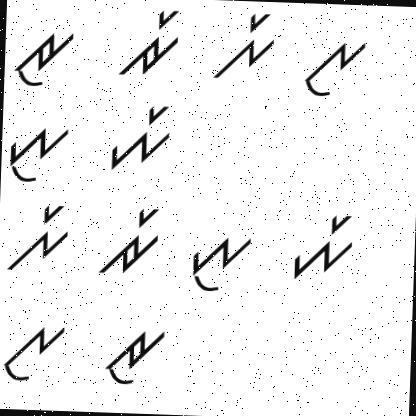lar: (4, 202, 76, 278), (214, 7, 280, 87)
law: (299, 26, 369, 103), (2, 318, 69, 388)
rar: (94, 201, 166, 285), (115, 2, 186, 80)
raw: (11, 23, 80, 95), (102, 318, 168, 390)
yar: (104, 96, 178, 174), (289, 210, 362, 284)
yaw: (8, 117, 79, 188), (187, 229, 259, 295)
